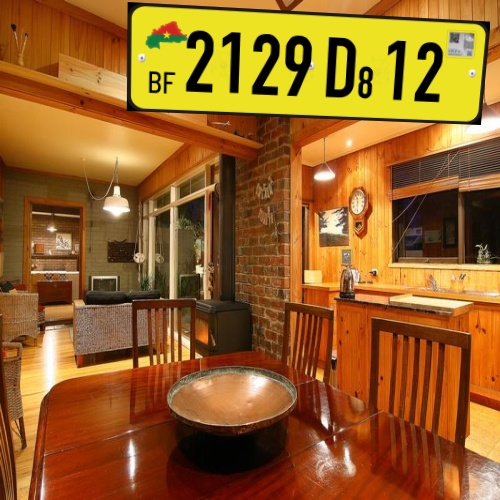plate: (118, 3, 491, 146)
